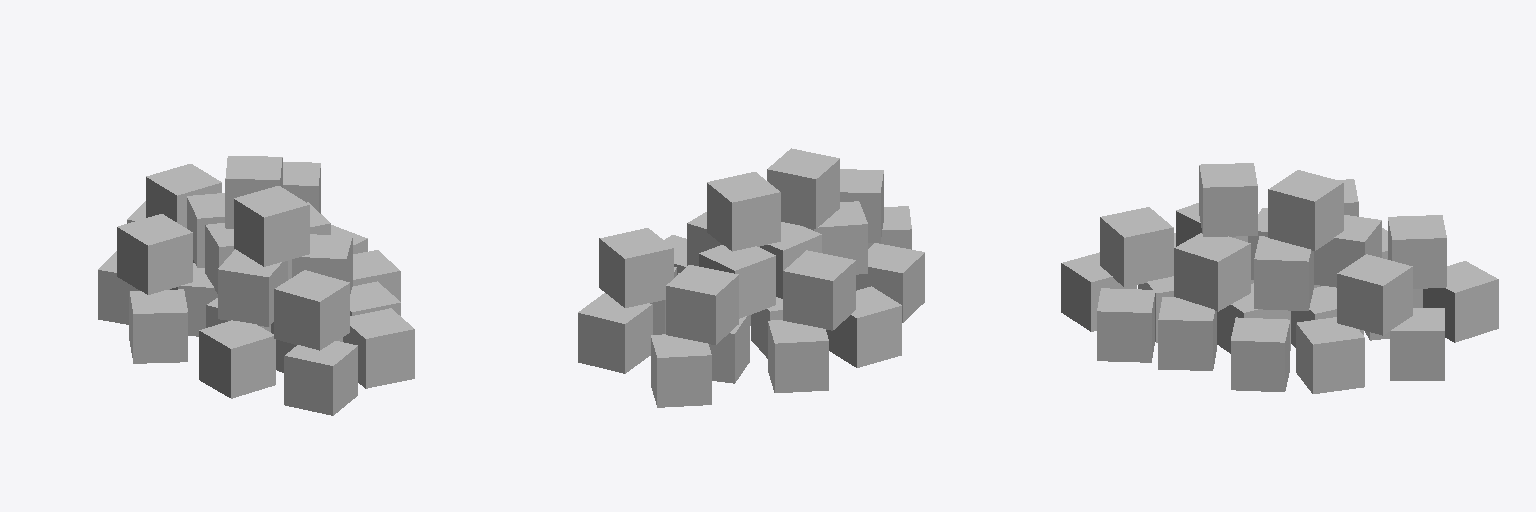
The model's file is squash_chop_3.obj.
The picture shows the model from 3 angles: view 1: azimuth 30°, elevation 25°; view 2: azimuth 150°, elevation 25°; view 3: azimuth 270°, elevation 25°; orthographic projection.
Visible parts, largest first — view 1: chop_3 Squash1 pCube15, chop_3 Squash1 pCube27, chop_3 Squash1 pCube20, chop_3 Squash1 pCube25, chop_3 Squash1 pCube17, chop_3 Squash1 pCube18, chop_3 Squash1 pCube8, chop_3 Squash1 pCube23, chop_3 Squash1 pCube10, pCube26 chop_3 Squash1, chop_3 Squash1 pCube24, chop_3 Squash1 pCube5 (+6 smaller); view 2: pCube26 chop_3 Squash1, chop_3 Squash1 pCube10, chop_3 Squash1 pCube15, chop_3 Squash1 pCube11, chop_3 Squash1 pCube1, chop_3 Squash1 pCube27, chop_3 Squash1 pCube8, chop_3 Squash1 pCube5, chop_3 Squash1 pCube2, chop_3 Squash1 pCube20, chop_3 Squash1 pCube9, chop_3 Squash1 pCube23 (+6 smaller); view 3: chop_3 Squash1 pCube11, pCube26 chop_3 Squash1, chop_3 Squash1 pCube24, chop_3 Squash1 pCube25, chop_3 Squash1 pCube14, chop_3 Squash1 pCube27, chop_3 Squash1 pCube13, chop_3 Squash1 pCube18, chop_3 Squash1 pCube2, chop_3 Squash1 pCube21, chop_3 Squash1 pCube12, chop_3 Squash1 pCube1 (+7 smaller).
Part boxes in pixels (x1,y1,x2,y2): chop_3 Squash1 pCube15: (117, 214, 192, 294); chop_3 Squash1 pCube27: (234, 186, 309, 266); chop_3 Squash1 pCube20: (199, 320, 275, 398); chop_3 Squash1 pCube25: (274, 270, 349, 350); chop_3 Squash1 pCube17: (284, 341, 357, 415); chop_3 Squash1 pCube18: (343, 308, 414, 388); chop_3 Squash1 pCube8: (129, 289, 187, 363); chop_3 Squash1 pCube23: (218, 249, 287, 326); chop_3 Squash1 pCube10: (146, 164, 221, 227); pCube26 chop_3 Squash1: (225, 156, 282, 228); chop_3 Squash1 pCube24: (292, 234, 352, 293); chop_3 Squash1 pCube5: (98, 251, 169, 324); pCube26 chop_3 Squash1: (707, 172, 780, 251); chop_3 Squash1 pCube10: (666, 265, 738, 344); chop_3 Squash1 pCube15: (783, 250, 855, 330); chop_3 Squash1 pCube11: (599, 228, 673, 307); chop_3 Squash1 pCube1: (578, 293, 652, 373); chop_3 Squash1 pCube27: (767, 148, 839, 228); chop_3 Squash1 pCube8: (826, 286, 901, 367); chop_3 Squash1 pCube5: (768, 320, 828, 392); chop_3 Squash1 pCube2: (651, 334, 711, 407); chop_3 Squash1 pCube20: (856, 243, 924, 322); chop_3 Squash1 pCube9: (699, 245, 775, 318); chop_3 Squash1 pCube23: (806, 201, 867, 274); chop_3 Squash1 pCube11: (1337, 254, 1412, 335); pCube26 chop_3 Squash1: (1268, 170, 1343, 250); chop_3 Squash1 pCube24: (1174, 233, 1250, 311); chop_3 Squash1 pCube25: (1100, 207, 1173, 287); chop_3 Squash1 pCube14: (1296, 317, 1364, 393); chop_3 Squash1 pCube27: (1199, 163, 1257, 236); chop_3 Squash1 pCube13: (1231, 317, 1289, 391); chop_3 Squash1 pCube18: (1097, 288, 1154, 362); chop_3 Squash1 pCube2: (1423, 261, 1498, 342); chop_3 Squash1 pCube21: (1158, 297, 1216, 370); chop_3 Squash1 pCube12: (1254, 236, 1313, 310); chop_3 Squash1 pCube1: (1390, 308, 1444, 380).
Size of the model in its own units: 0.5723 by 0.3226 by 0.8432.